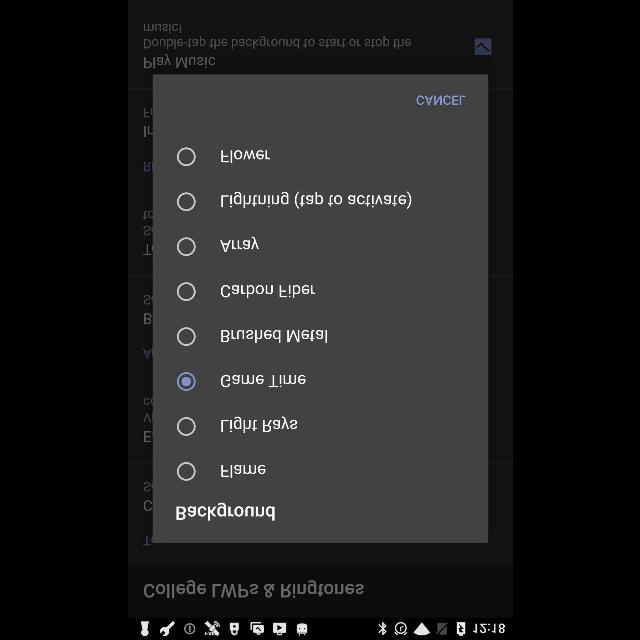checkbox: (177, 416, 196, 436), (177, 328, 196, 347), (176, 192, 194, 212), (177, 283, 196, 301), (177, 148, 196, 166), (176, 463, 194, 481), (176, 372, 194, 390), (176, 238, 194, 256)
icon: (474, 38, 491, 56)
panel: (152, 74, 488, 542)
text: (144, 23, 410, 49), (143, 580, 363, 598), (222, 192, 410, 208), (176, 503, 274, 521), (221, 284, 315, 298), (221, 330, 327, 342), (220, 416, 296, 432), (221, 375, 305, 387), (143, 54, 214, 68), (221, 464, 265, 478), (220, 236, 258, 252), (221, 151, 269, 163), (416, 96, 464, 104)
uppertaskbar: (128, 617, 512, 639)
